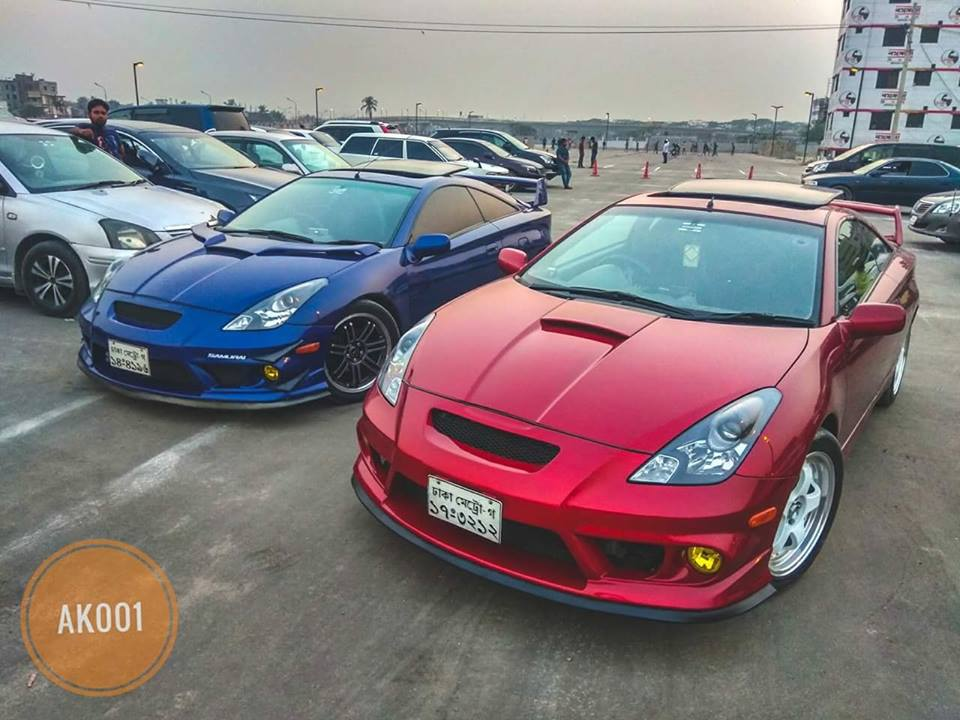registration_plate: (426, 473, 502, 545), (107, 337, 151, 376)
